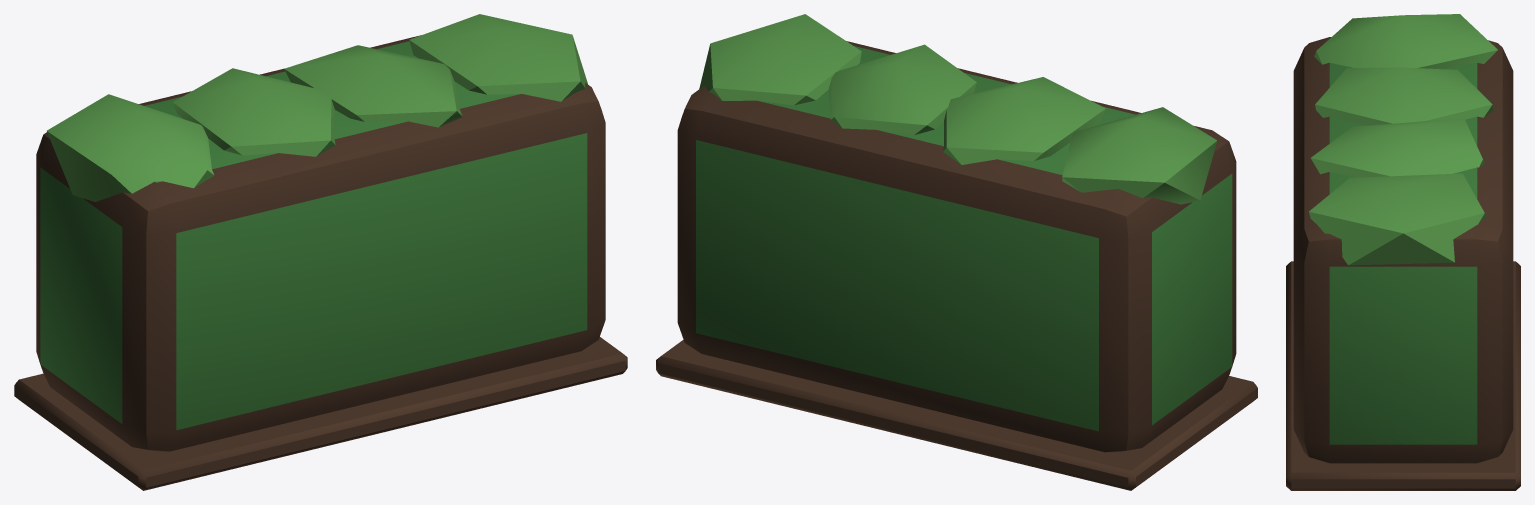
File: statue_hedge.glb
3 renders of one model, left to right at view 1: azimuth 30°, elevation 25°; view 2: azimuth 150°, elevation 25°; view 3: azimuth 270°, elevation 25°, orthographic. The views are drawn at different scales.
Visible parts, largest first — view 1: statue_hedge; view 2: statue_hedge; view 3: statue_hedge.
Part boxes in pixels (x1,y1,x2,y2): statue_hedge: [14, 14, 627, 490]; statue_hedge: [656, 14, 1257, 490]; statue_hedge: [1286, 14, 1520, 490].
Size of the model in its own units: 2.04 by 1.26 by 0.92.
